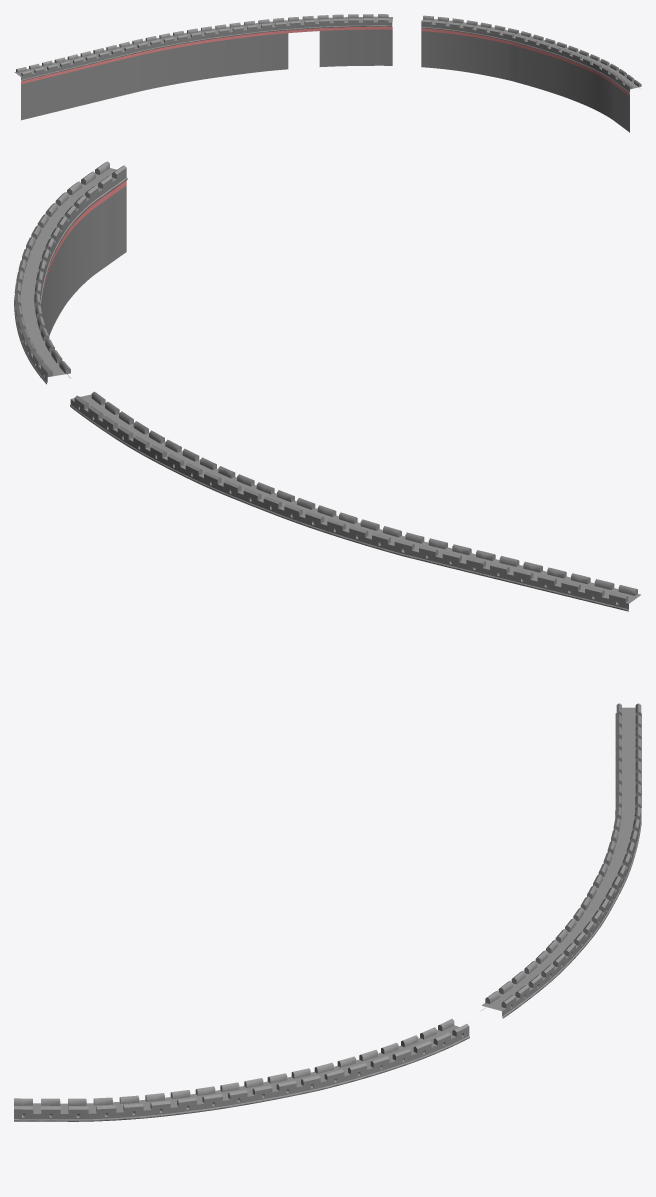
The model's file is CHN_StadiumWalls02.gltf.
3 views of the same model, one above another, from view 1: azimuth 30°, elevation 25°; view 2: azimuth 150°, elevation 25°; view 3: azimuth 270°, elevation 25° (orthographic). The views are drawn at different scales.
Visible parts, largest first — view 1: CHN_StadiumWalls02; view 2: CHN_StadiumWalls02; view 3: CHN_StadiumWalls02.
Boxes of the visible parts, bbox=[...] form: CHN_StadiumWalls02: bbox=[14, 14, 641, 132]; CHN_StadiumWalls02: bbox=[14, 161, 640, 611]; CHN_StadiumWalls02: bbox=[14, 703, 641, 1121].
Bounding box in the file's own units: 159 × 15.49 × 104.
